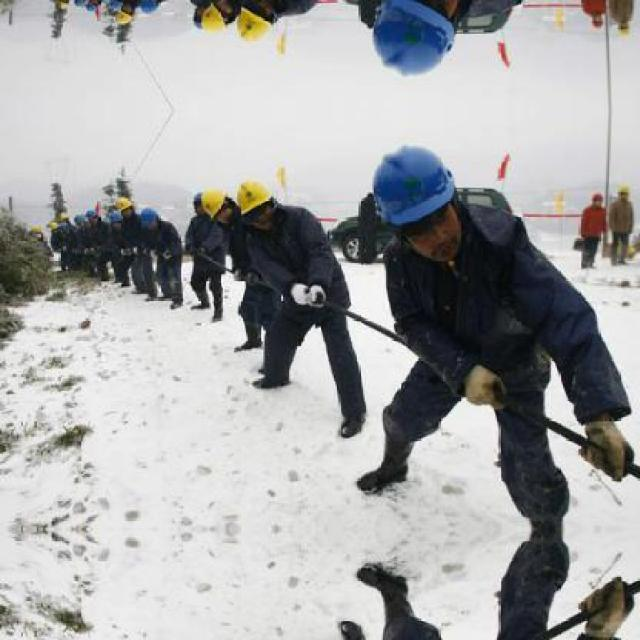helmet: (372, 141, 462, 262), (372, 0, 463, 78), (230, 171, 278, 226), (230, 0, 278, 49), (200, 0, 231, 34), (201, 185, 230, 221), (136, 205, 159, 229), (588, 186, 608, 208), (105, 208, 126, 228), (588, 11, 608, 32), (115, 193, 134, 213), (115, 6, 134, 26), (135, 0, 159, 15), (81, 0, 101, 15), (72, 211, 88, 229), (82, 205, 100, 220), (104, 0, 128, 11), (618, 180, 632, 198), (618, 20, 632, 38), (71, 0, 89, 9)
